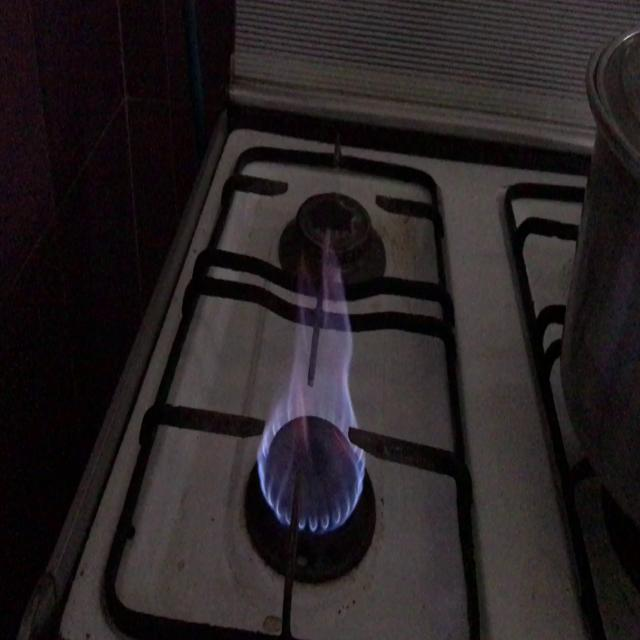fire: (248, 308, 372, 542)
